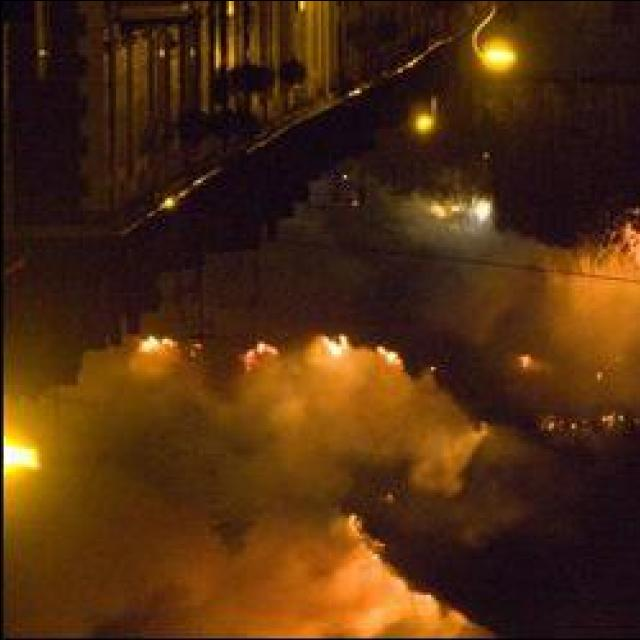fire: (1, 432, 36, 476)
smoke: (257, 360, 429, 478), (551, 272, 640, 372), (288, 568, 390, 632), (411, 428, 483, 491)
